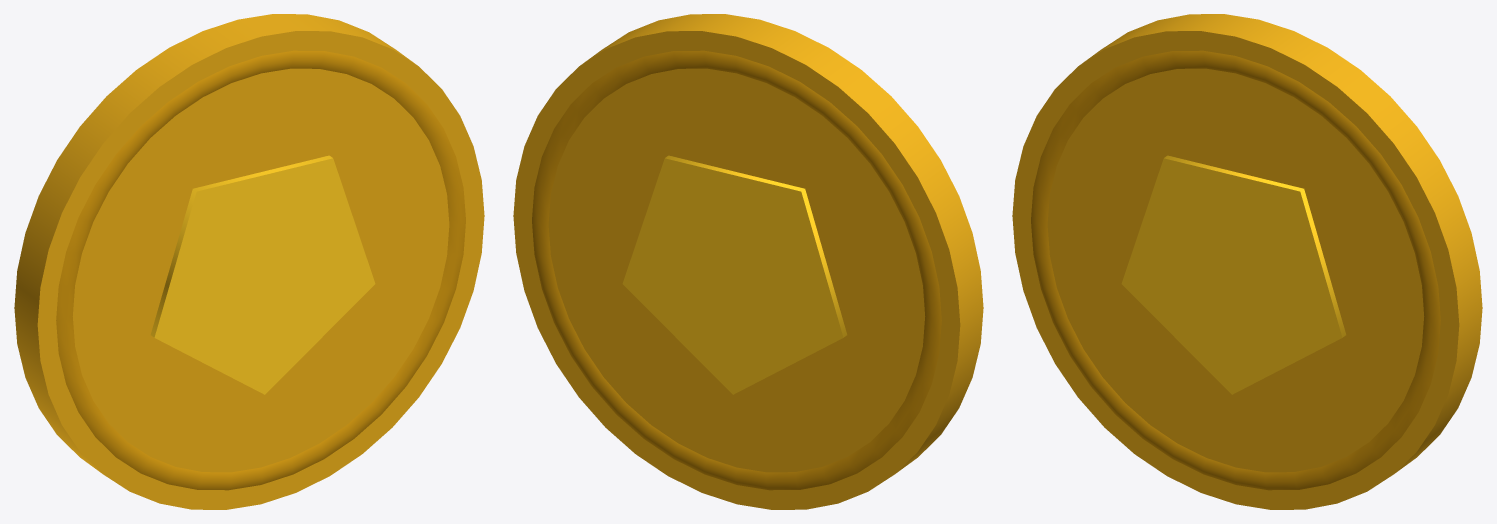
Rendered from coin.glb.
The picture shows the model from 3 angles, left to right: view 1: azimuth 30°, elevation 25°; view 2: azimuth 150°, elevation 25°; view 3: azimuth 330°, elevation 25°; orthographic projection.
Size of the model in its own units: 1 by 1 by 0.12.
